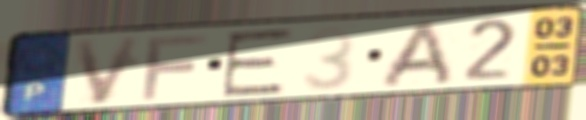2: (459, 16, 521, 83)
3: (299, 24, 359, 93)
A: (375, 18, 458, 90)
E: (217, 26, 297, 99)
F: (138, 32, 212, 102)
V: (69, 32, 146, 107)
